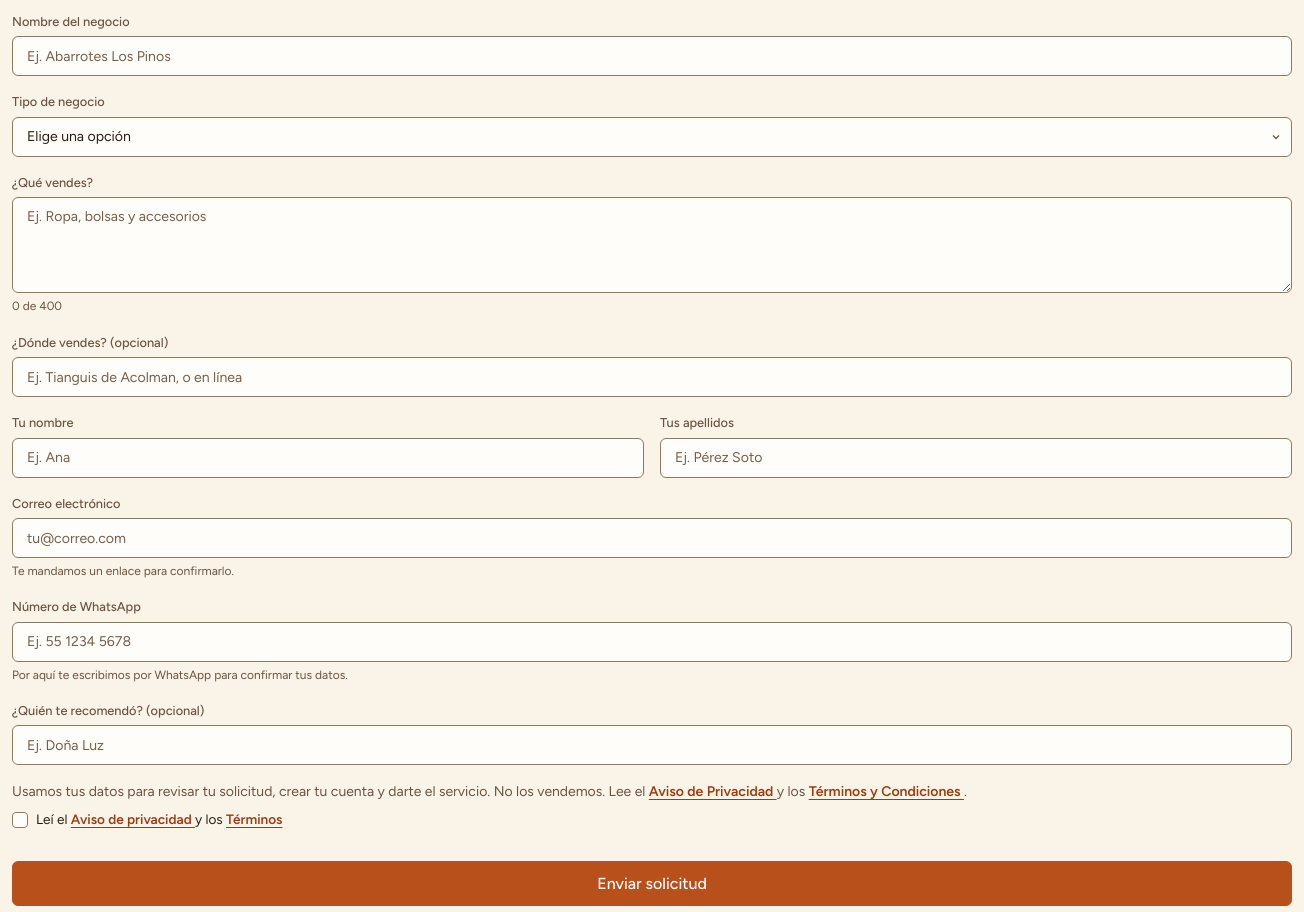
it: BusinessRegistrationForm: campos › "qué vendes" lleva un contador de caracteres que se actualiza al escribir
Expected: the text with id "registro-quevende-count" reads "0 de 400", [12, 299, 62, 313]
Type "Ropa de segunda" into the text box labelled "¿Qué vendes?" at (652, 245), box [12, 197, 1292, 293]
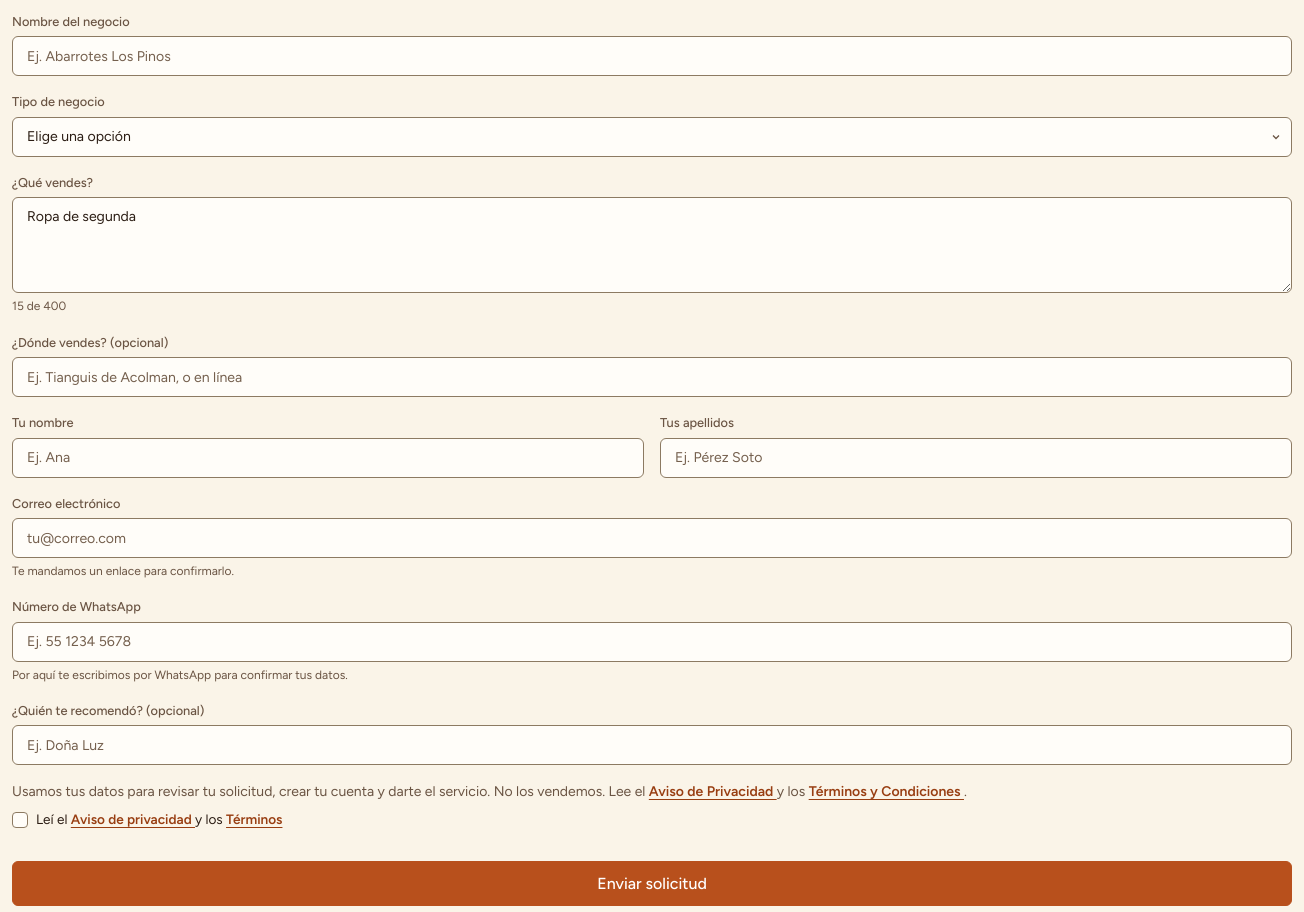
Expected: the text with id "registro-quevende-count" reads "15 de 400", [12, 299, 66, 313]
